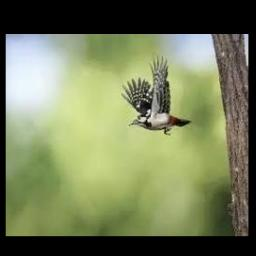Woodpecker: (120, 53, 191, 135)
